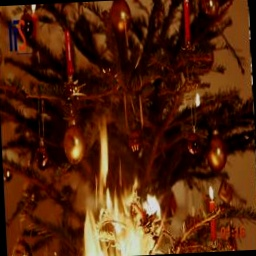fire: (73, 124, 160, 256)
